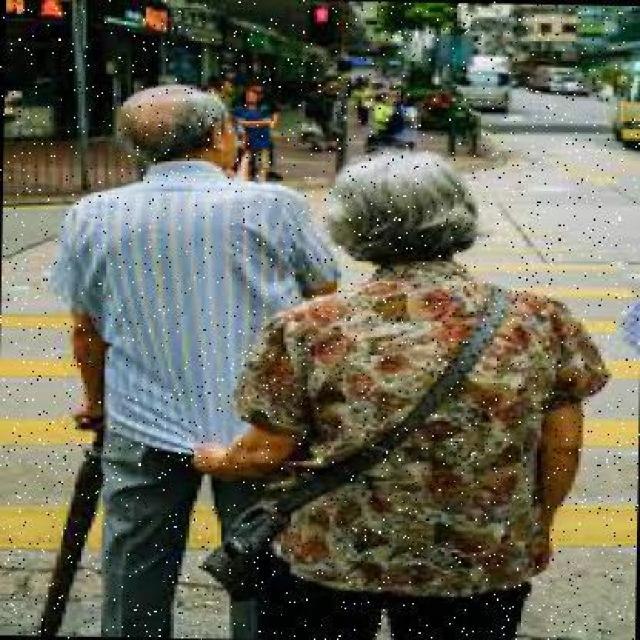Person: (220, 146, 609, 639), (64, 81, 336, 637), (232, 86, 276, 182)
